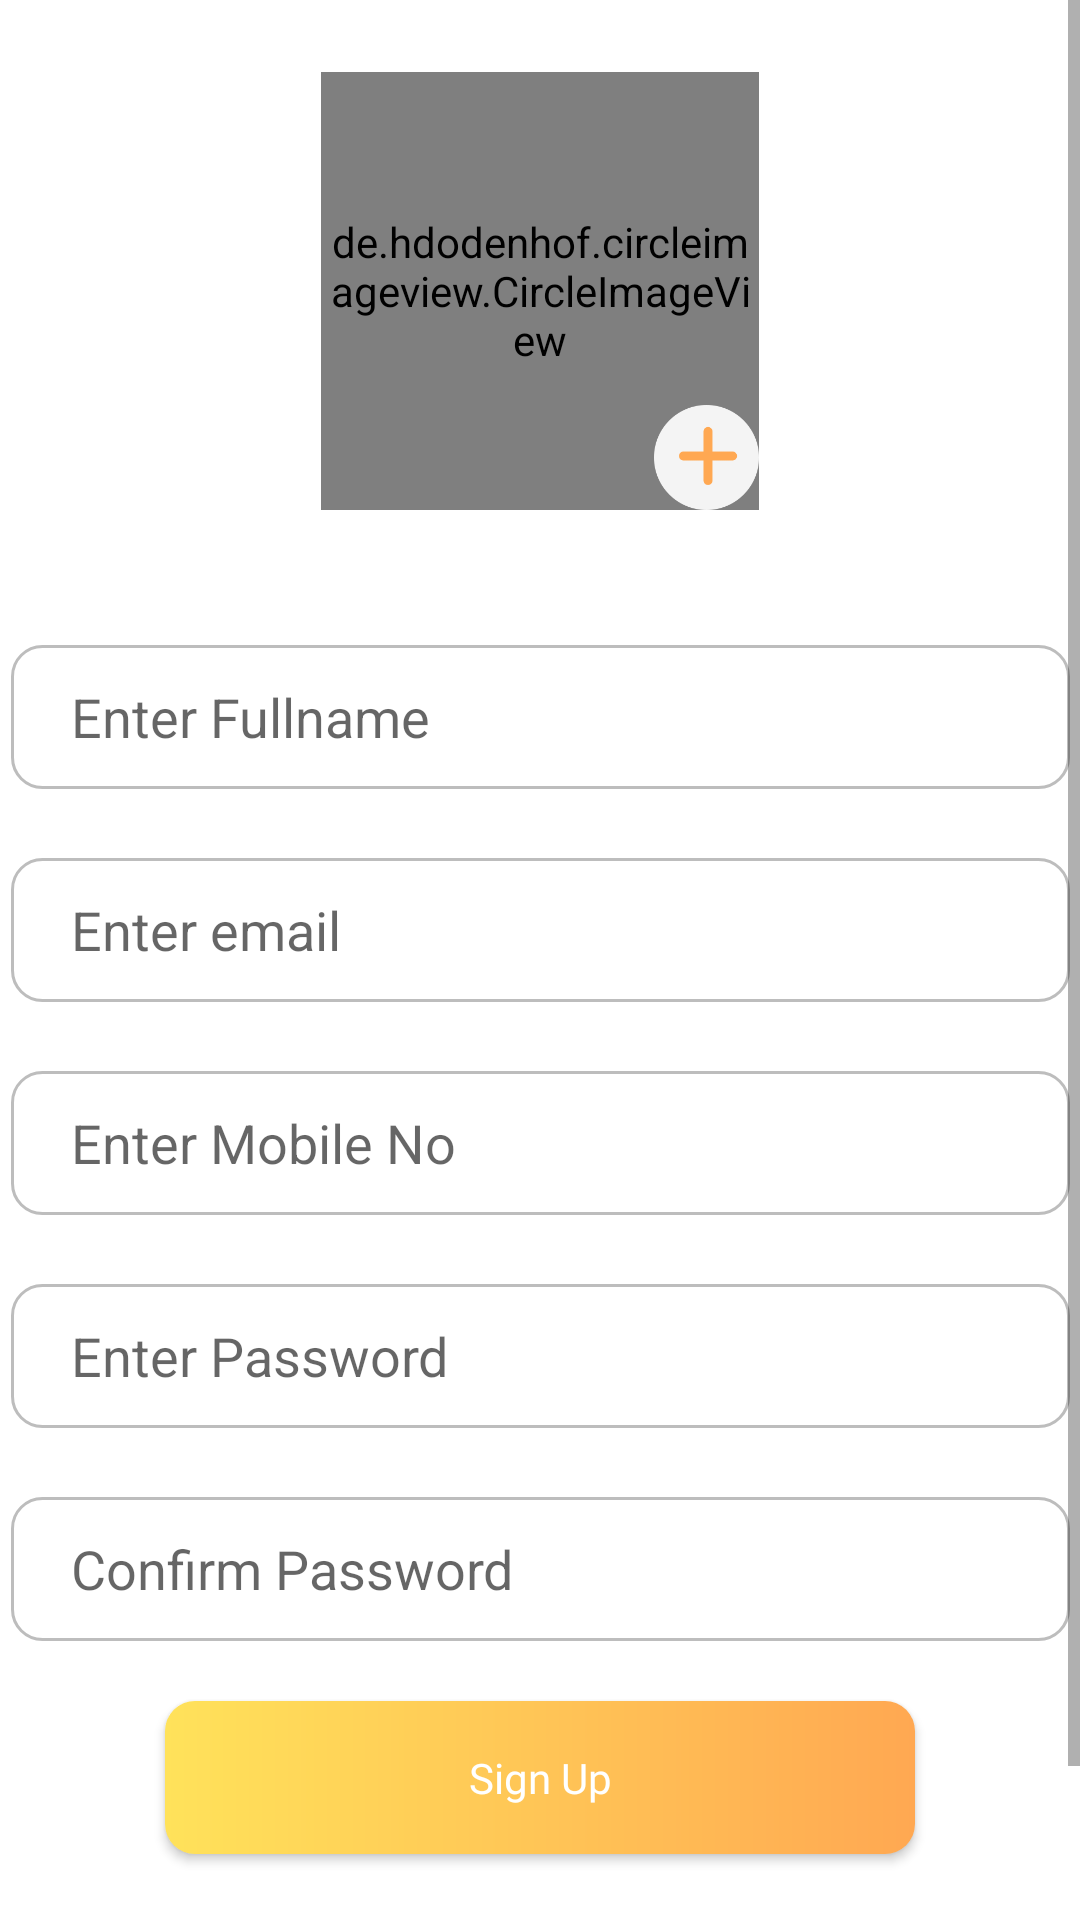

Point at icon controls on the screen. Image size 1080w x 1920h, points as [x,y].
addphotobtn: [706,457]
